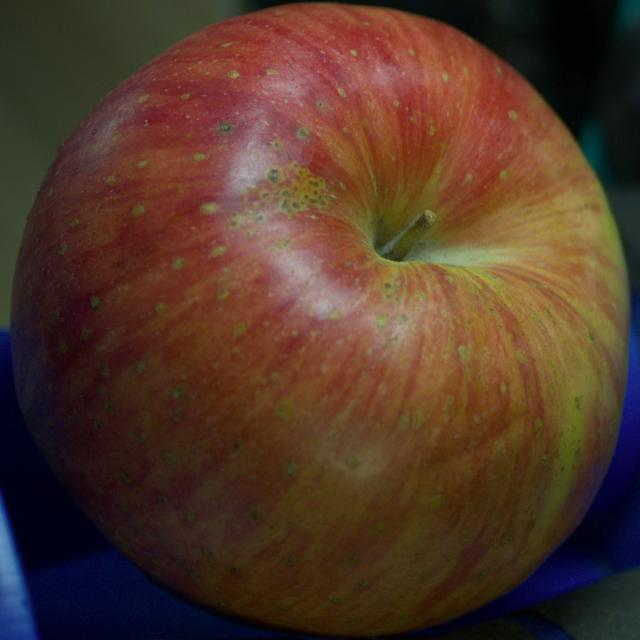apple: (11, 4, 629, 636)
bruise: (421, 405, 538, 472)
pest: (266, 168, 281, 183), (274, 239, 290, 249), (218, 122, 233, 132), (298, 128, 309, 138)
